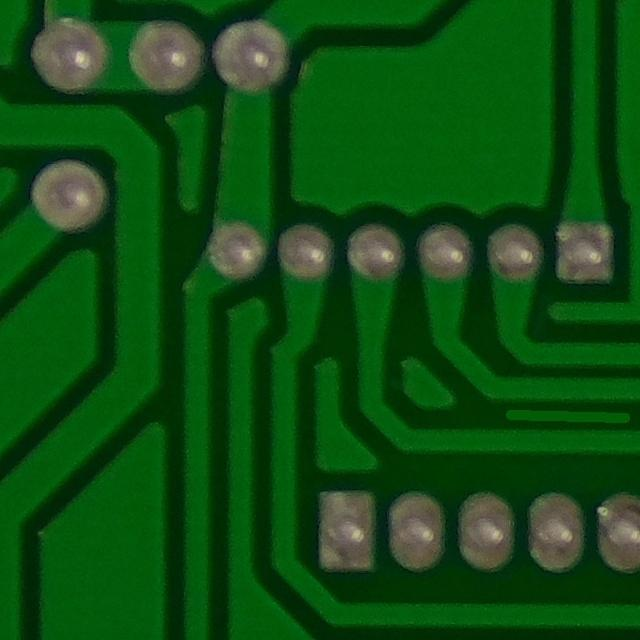spurious_copper: (489, 396, 640, 439)
